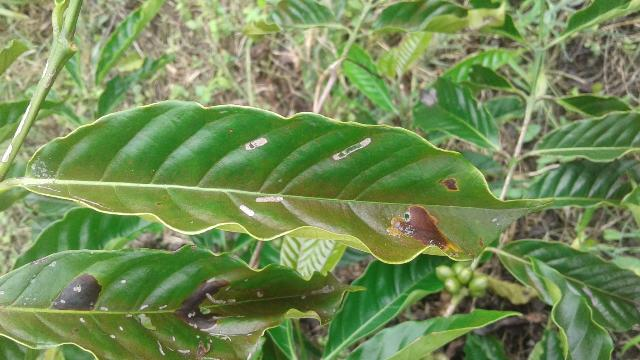red_spider_mite: (21, 100, 558, 264)
